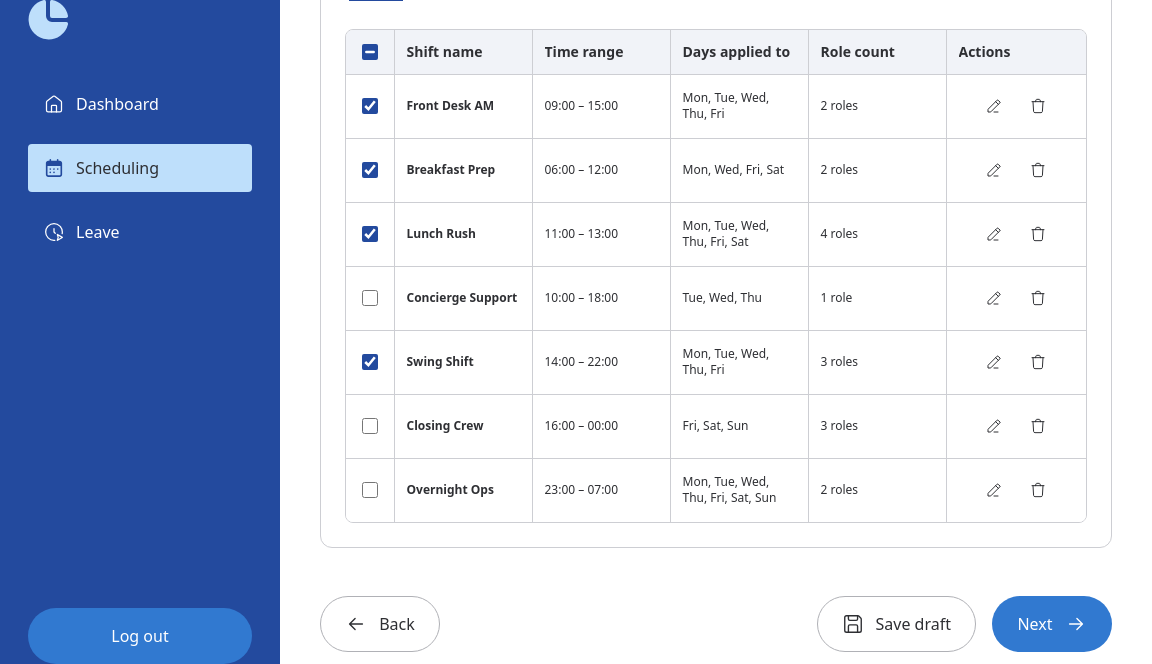
Test: Create Schedule: the department's constraints › given_changedConstraintTicks_when_draftSaved_then_putsThemWithTheShifts
The image size is (1152, 664).
(page scrolled)
Check: the row "Front Desk AM 09:00 – 15:00 Mon, Tue, Wed, Thu, Fri 2 roles" is shown, box [346,74,1086,138]
Click the button "Next". click: [1052, 624]
box: [992,596,1112,652]
(page scrolled)
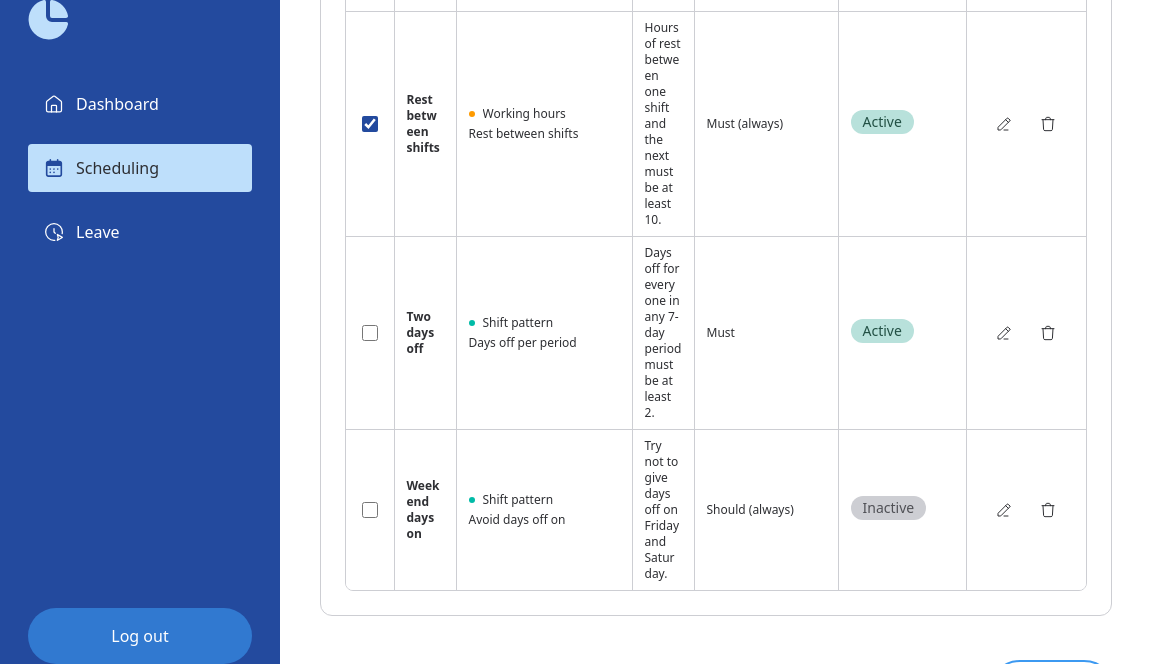
Click the checkbox below "Two days off". click: [370, 332]
box: [362,324,378,340]
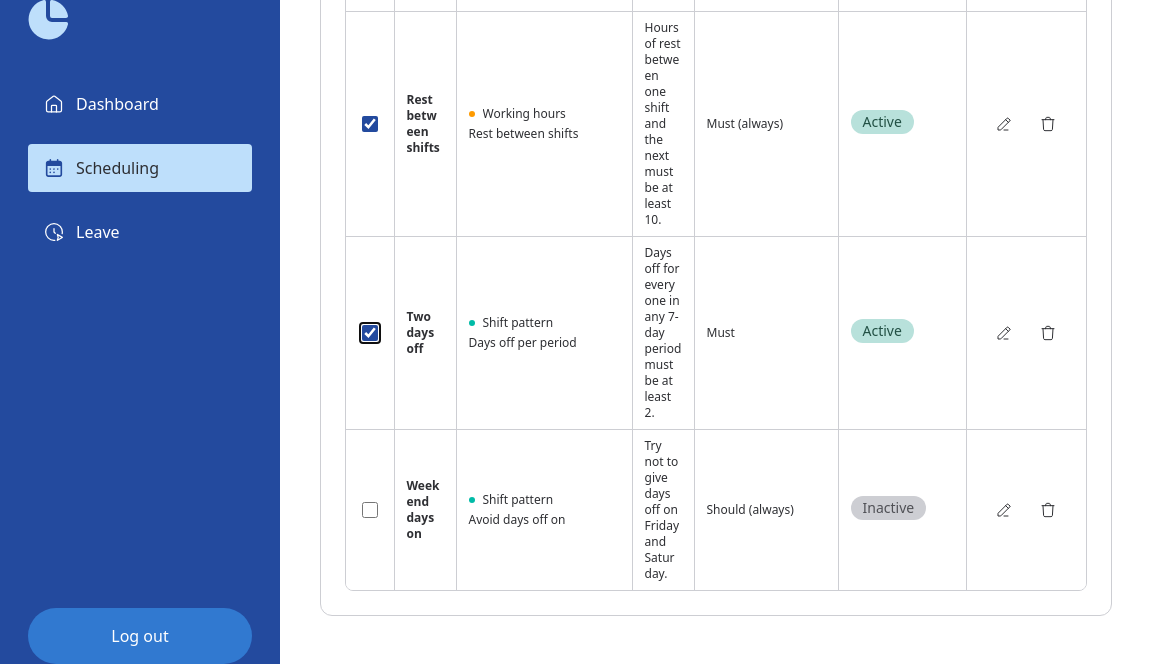
Click the checkbox in the row of "Working hours". click: [370, 124]
box: [362,116,378,132]
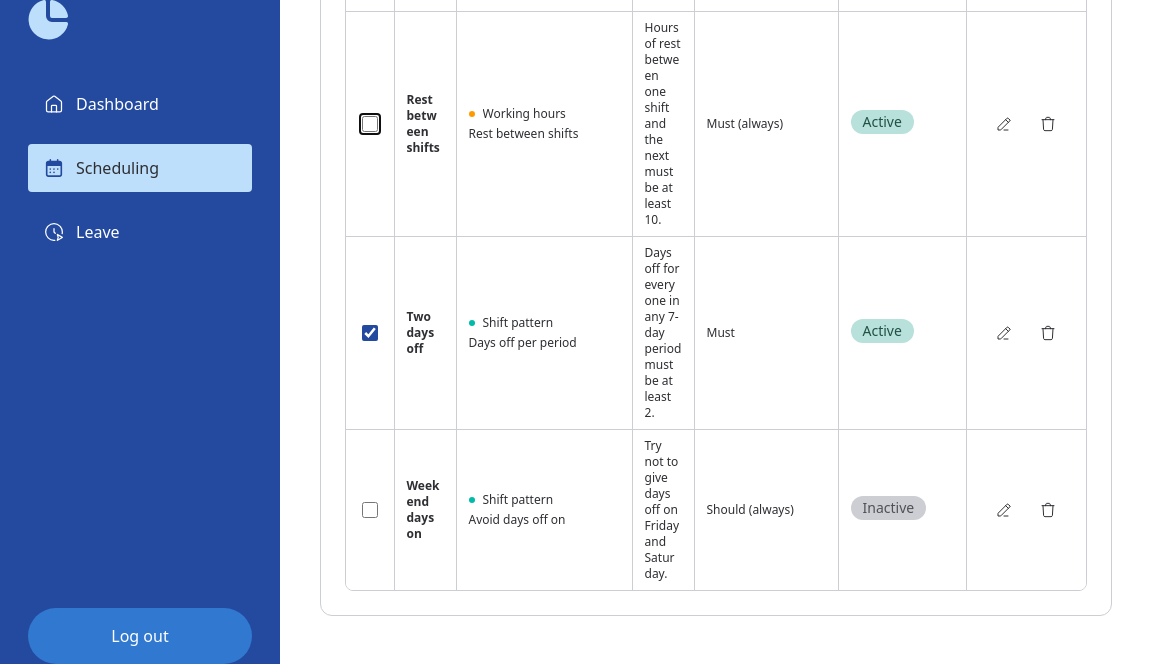
Click the checkbox below "Weekend days on". click: [370, 510]
box: [362,502,378,518]
(page scrolled)
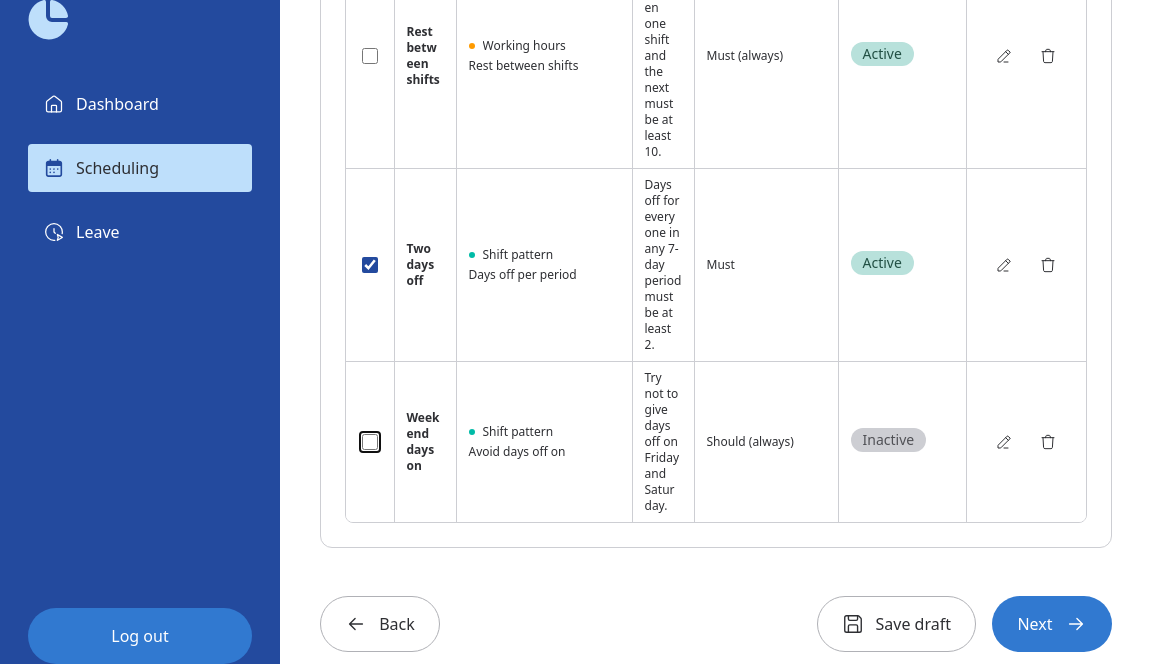
Click the button "Save draft". click: [896, 624]
box: [816,596,976,652]
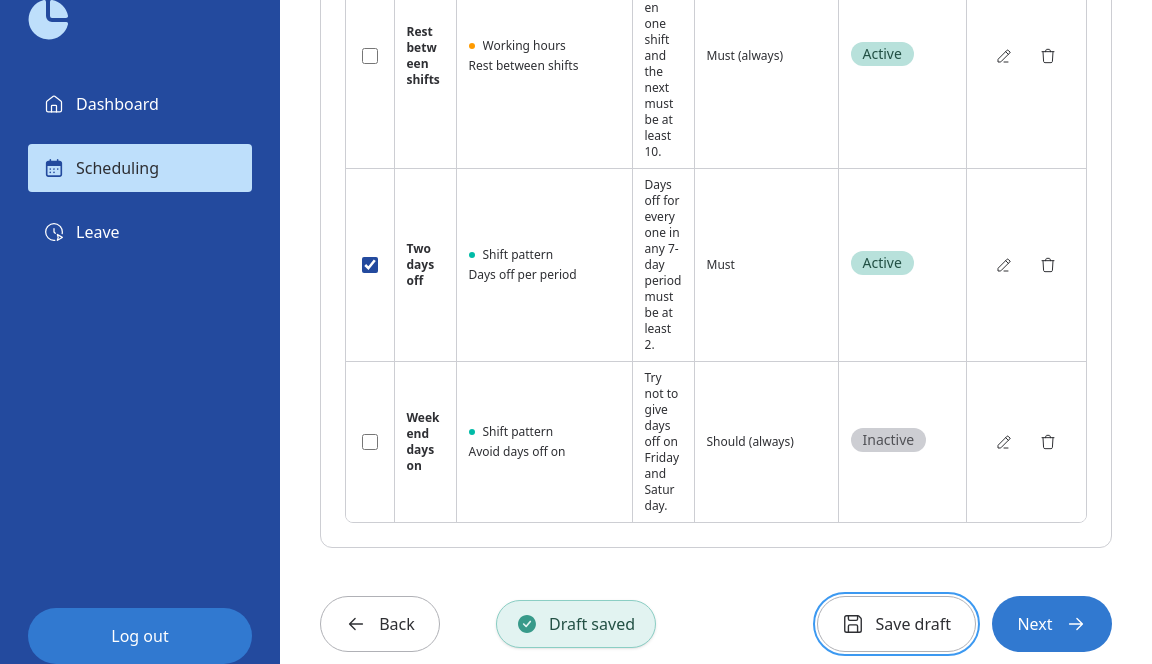
Check: the message reads "Draft saved", box [549,613,635,635]
